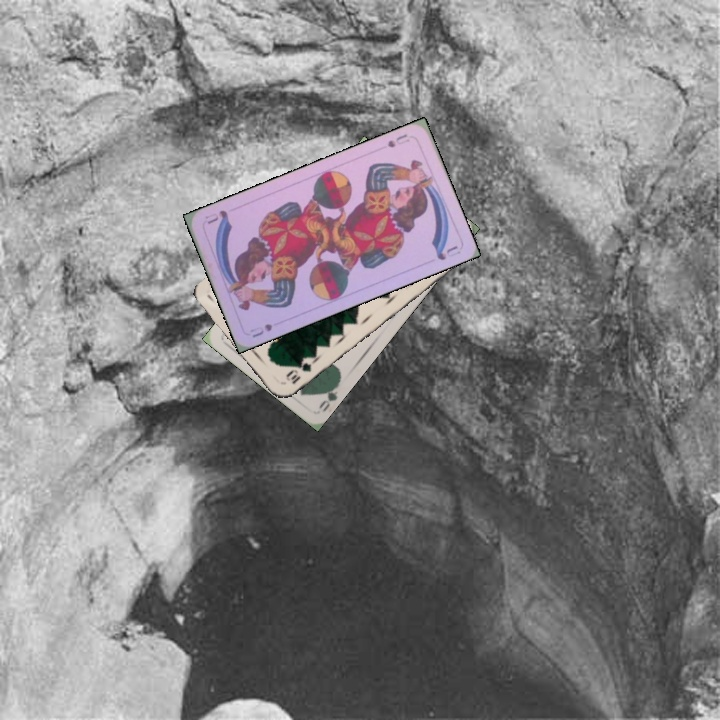G10: (281, 358, 314, 387)
GO: (314, 377, 343, 414)
SU: (246, 319, 275, 340), (383, 130, 412, 150)
